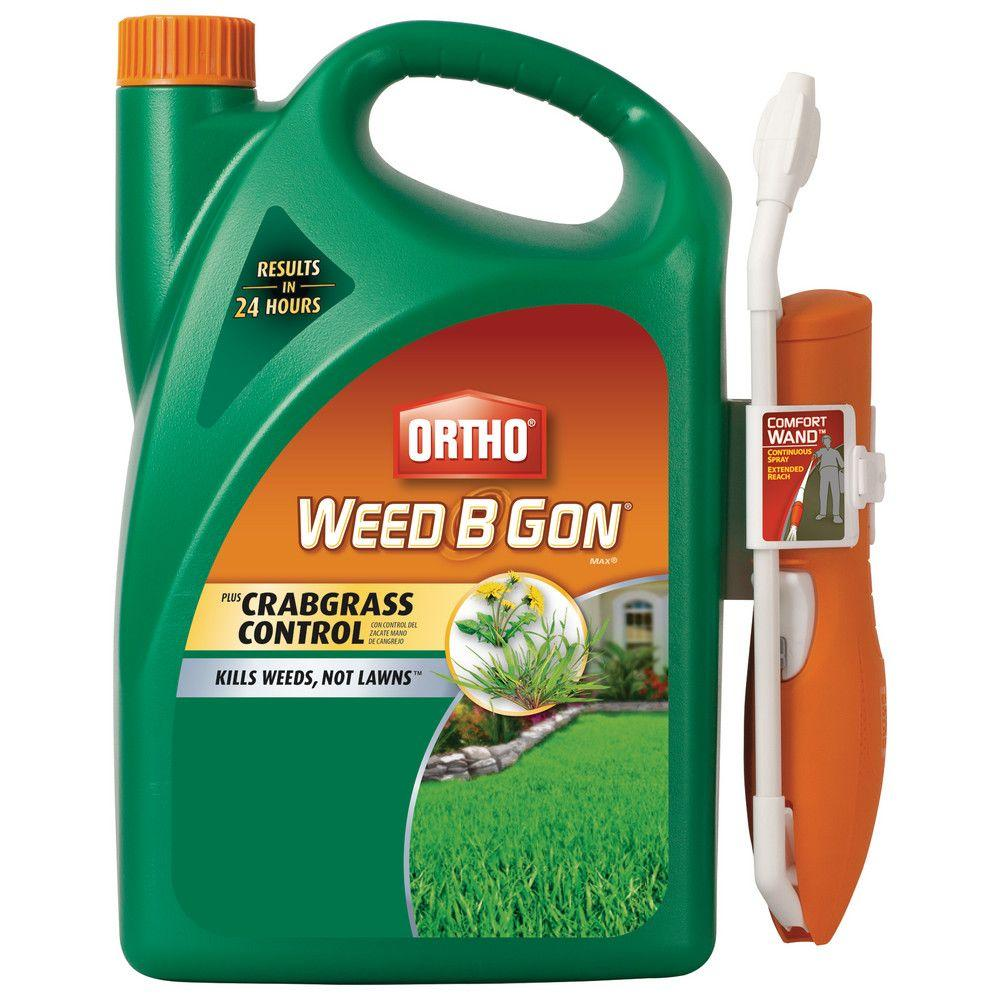crabgrass: (469, 640, 597, 707)
